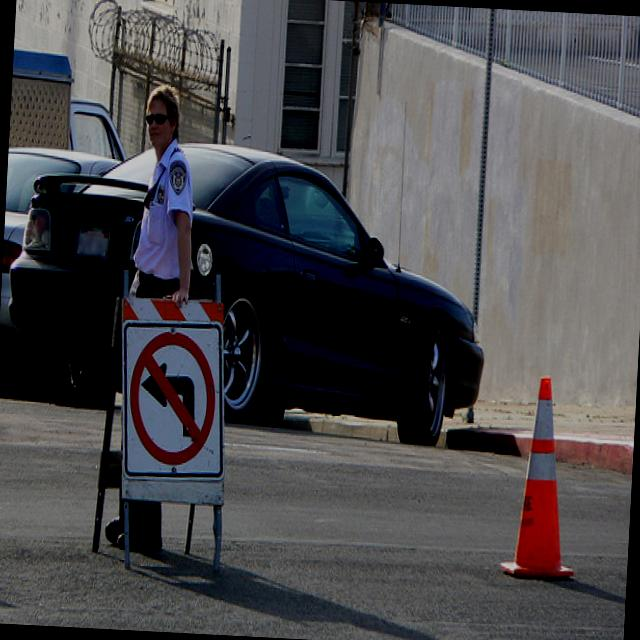Vehicle: (0, 130, 491, 450), (0, 142, 124, 402), (67, 94, 131, 161)
